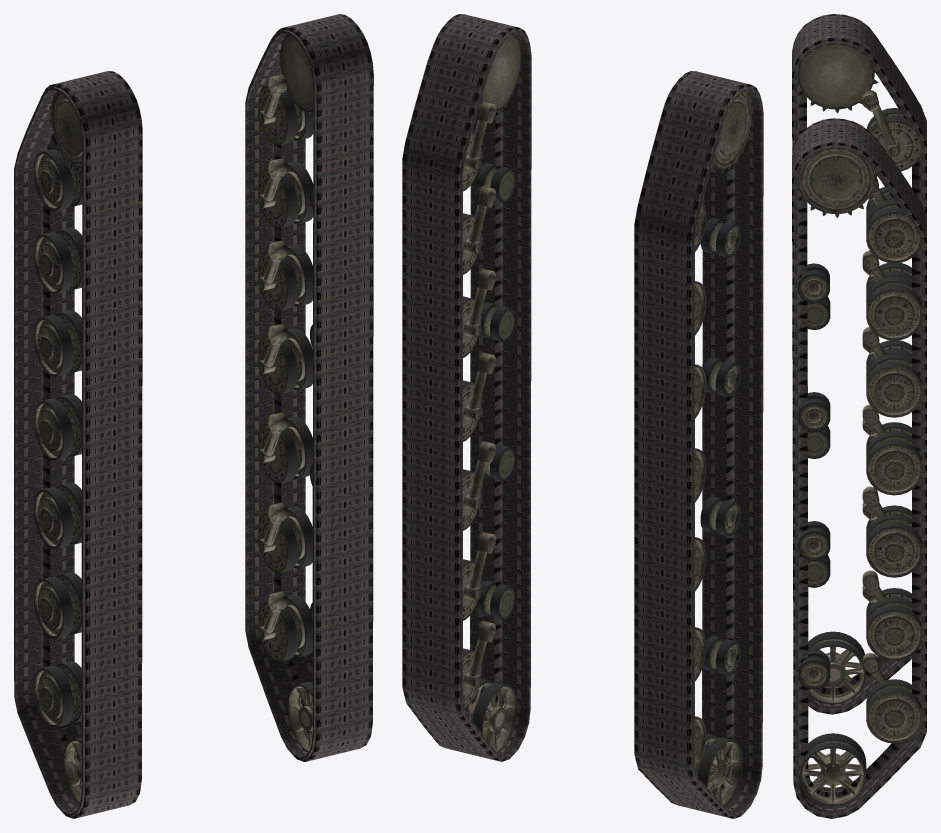
Rendered from Chassis.glb.
The picture shows the model from 3 angles, left to right: view 1: azimuth 30°, elevation 25°; view 2: azimuth 150°, elevation 25°; view 3: azimuth 270°, elevation 25°; orthographic projection. The views are drawn at different scales.
Visible parts, largest first — view 1: set_1_group_0, set_0_group_0, set_3_group_0, set_2_group_0; view 2: set_1_group_0, set_0_group_0, set_3_group_0, set_2_group_0; view 3: set_3_group_0, set_0_group_0, set_2_group_0, set_1_group_0.
Boxes of the visible parts, bbox=[...] form: set_1_group_0: bbox=[14, 71, 142, 818]; set_0_group_0: bbox=[245, 14, 373, 761]; set_3_group_0: bbox=[258, 34, 313, 752]; set_2_group_0: bbox=[34, 74, 106, 804]; set_1_group_0: bbox=[634, 71, 763, 818]; set_0_group_0: bbox=[402, 14, 531, 761]; set_3_group_0: bbox=[463, 34, 521, 752]; set_2_group_0: bbox=[695, 91, 751, 806]; set_3_group_0: bbox=[797, 149, 921, 806]; set_0_group_0: bbox=[792, 118, 926, 818]; set_2_group_0: bbox=[797, 35, 921, 704]; set_1_group_0: bbox=[792, 14, 926, 714].
Size of the model in its own units: 3.86 by 9.24 by 1.67.
Materials: 4 (4 with a texture image).
